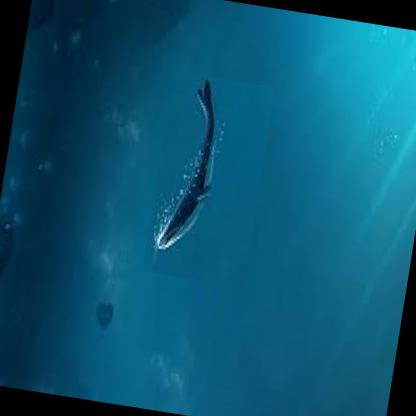blue_whale: (140, 69, 274, 286)
